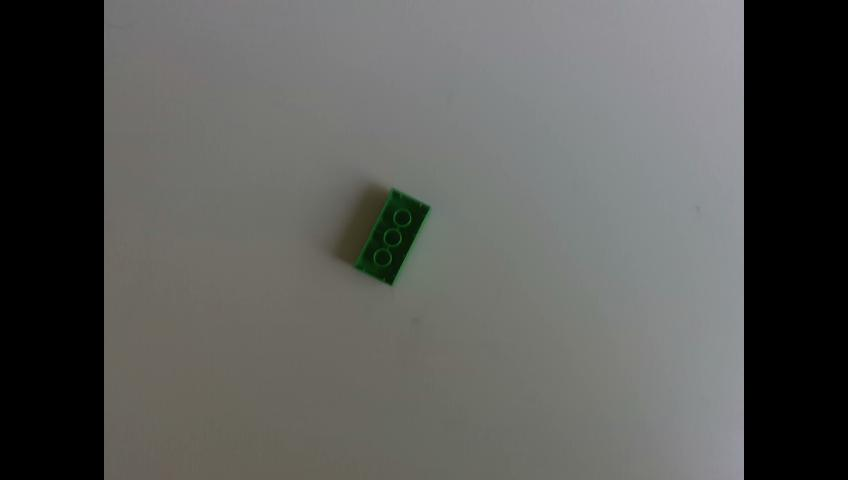4x2_green: (352, 184, 431, 285)
